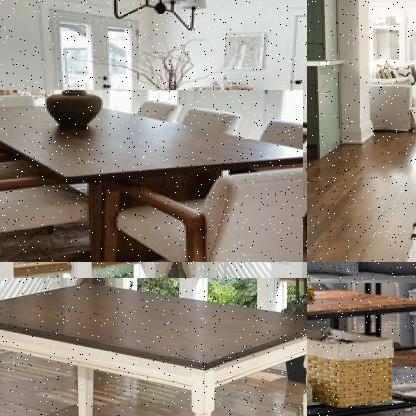table: (0, 90, 305, 261), (0, 278, 306, 415), (307, 283, 415, 415)
